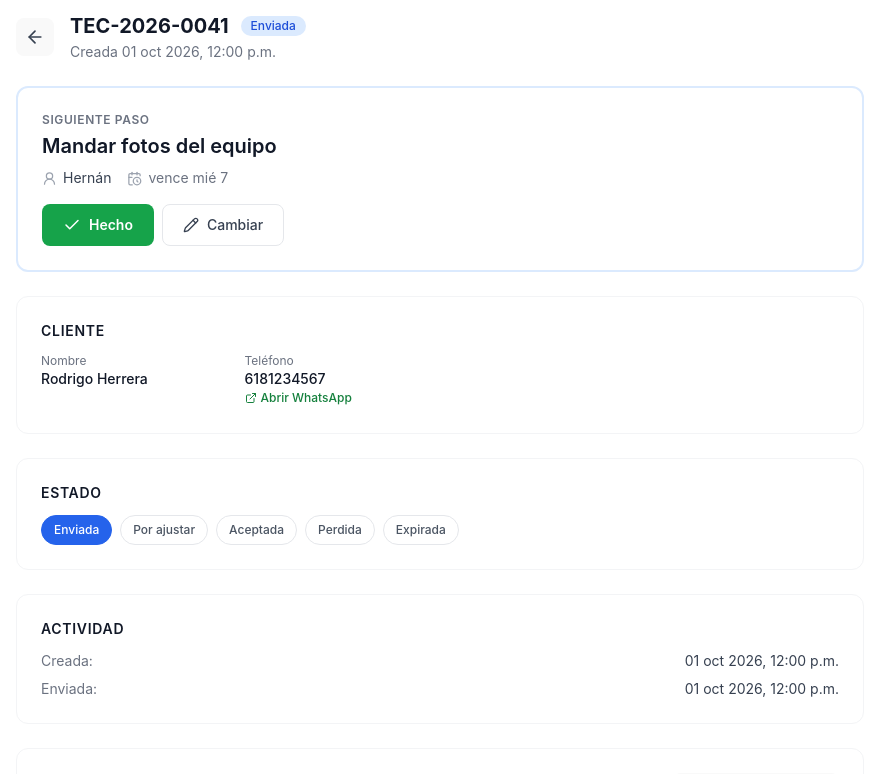
Scenario: «Cambiar» edits the current step; a failed save shows the plain-Spanish error and keeps the editor
Click the button "Cambiar".
click(223, 225)  # box left=162, top=204, right=284, bottom=246
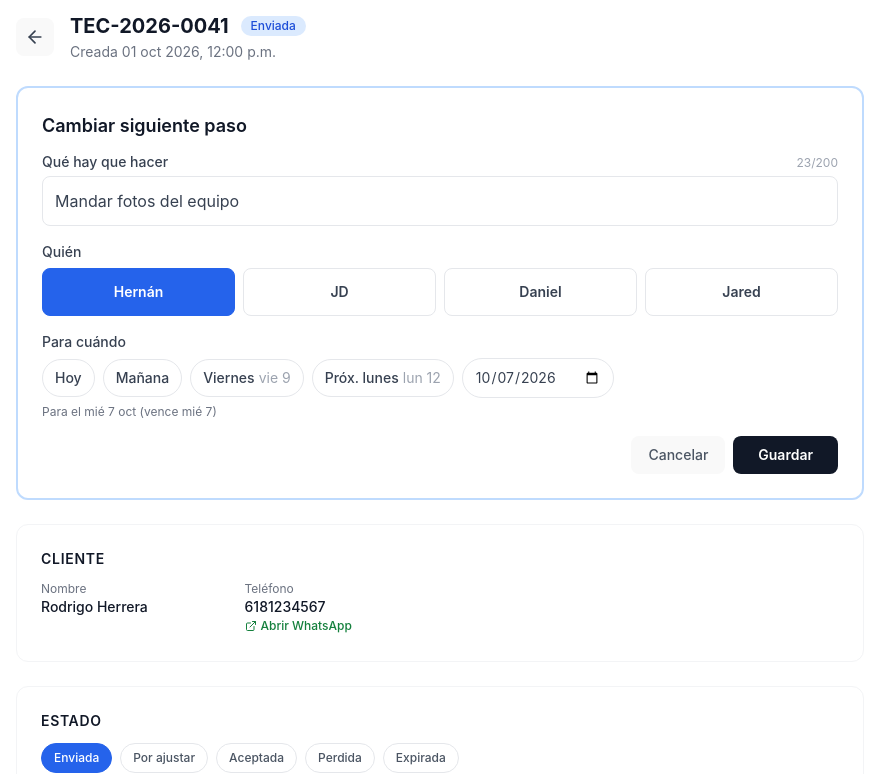
Expected: the field labelled "Qué hay que hacer" holds "Mandar fotos del equipo", left=42, top=176, right=838, bottom=226
Expected: the date field named "Otra fecha" holds "2026-10-07", left=462, top=358, right=614, bottom=398
Note: Tocar el responsable elegido lo quita.
Click the button "Hernán".
click(138, 292)  # box left=42, top=268, right=235, bottom=316
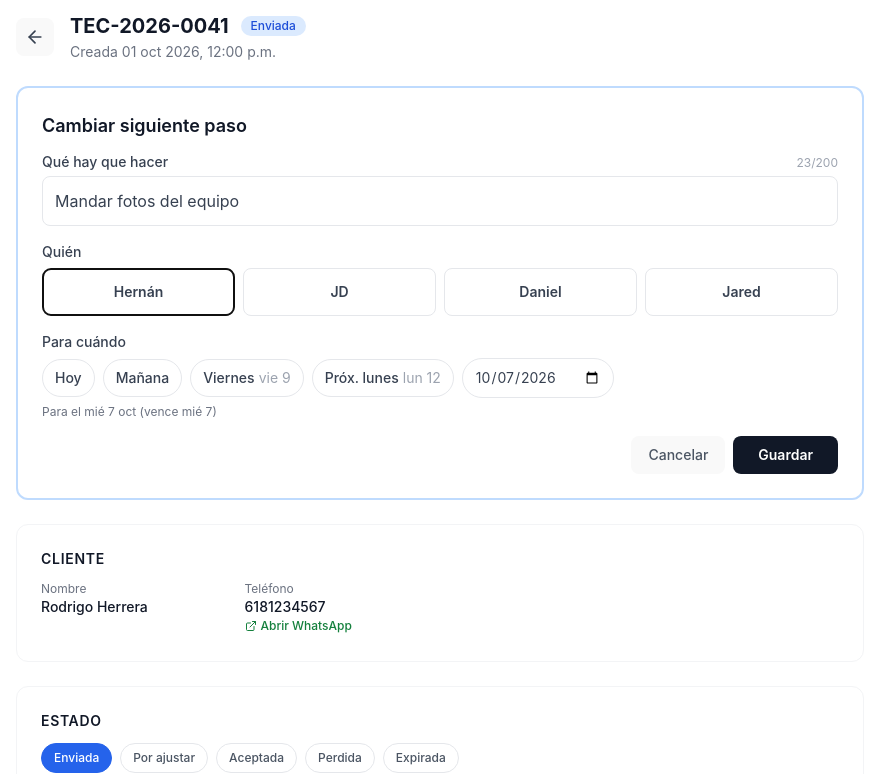
Click the button "Guardar".
click(786, 455)  # box left=733, top=436, right=838, bottom=474
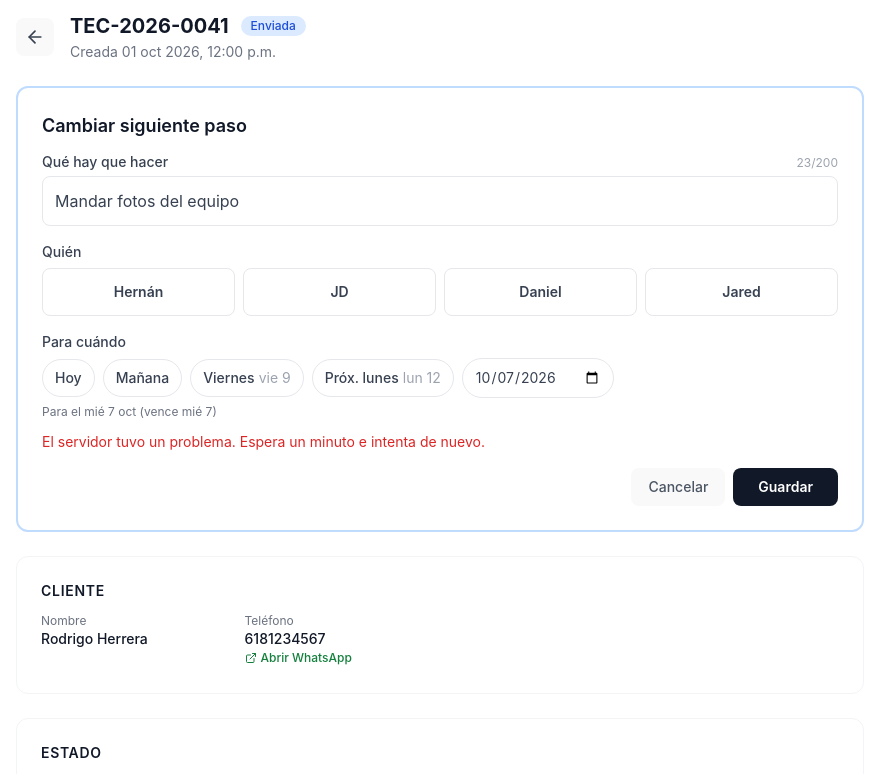
Expected: the field labelled "Qué hay que hacer" is shown, left=42, top=176, right=838, bottom=226
Expected: the message shows "El servidor tuvo un problema", left=42, top=433, right=485, bottom=450
Click the button "Cancelar".
click(678, 487)  # box left=632, top=468, right=725, bottom=506
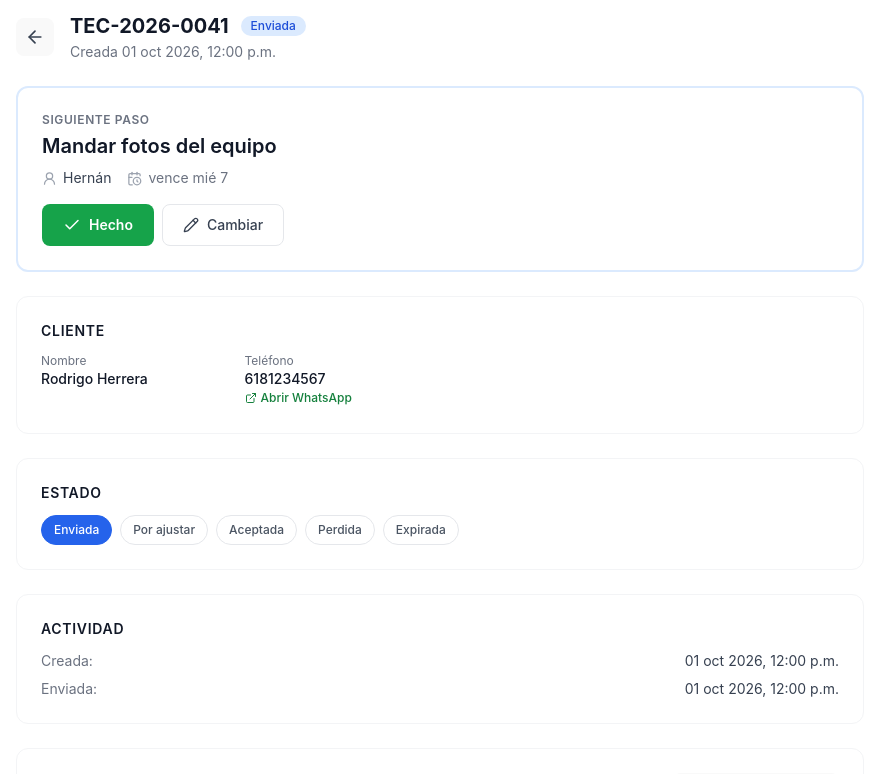
Expected: the label labelled "Qué hay que hacer" is gone
Expected: the text "Mandar fotos del equipo" is shown, left=42, top=134, right=277, bottom=158
